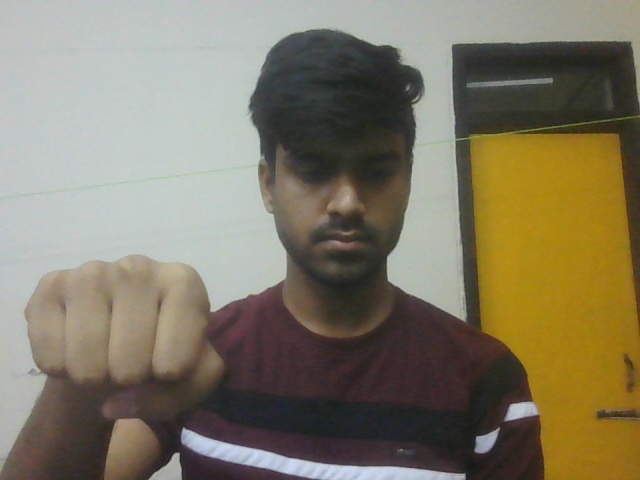yes: (20, 245, 238, 441)
